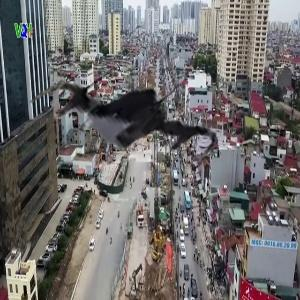drone: (51, 30, 221, 200)
